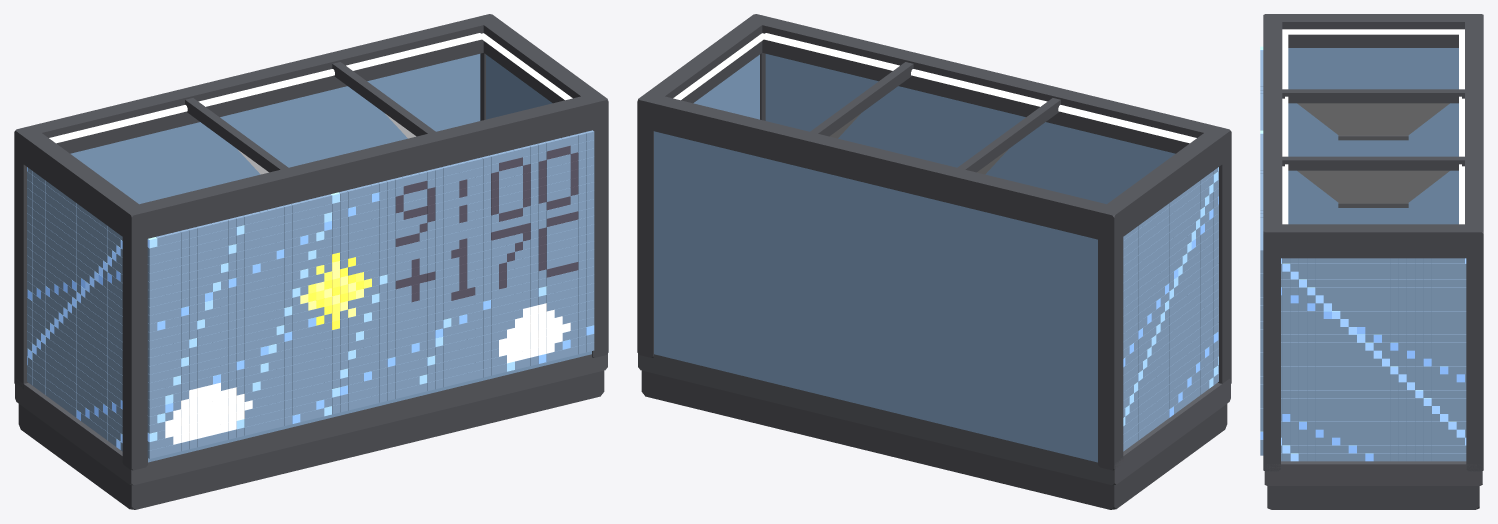
File: smart.glb
3 views of the same model, side by side, from view 1: azimuth 30°, elevation 25°; view 2: azimuth 150°, elevation 25°; view 3: azimuth 270°, elevation 25° (orthographic). The views are drawn at different scales.
Parts seen in each view (by area): view 1: front_true_pixel_blue0, back_solid_backing, left_true_pixel_blue0, rim_front, base_lower, rim_back, base_upper, front_true_pixel_dark, corner_post_2, rim_left, rim_right, corner_post_4 (+20 smaller); view 2: back_solid_backing, front_solid_backing, left_true_pixel_blue0, rim_back, base_lower, rim_front, base_upper, corner_post_1, rim_left, corner_post_3, rim_right, corner_post_2 (+10 smaller); view 3: right_true_pixel_blue0, left_solid_backing, rim_right, rim_left, base_upper, base_lower, rim_front, rim_back, corner_post_4, corner_post_3, funnel_2_right, funnel_1_right (+11 smaller).
Part boxes in pixels (x1,y1,x2,y2): front_true_pixel_blue0: [147, 130, 594, 458]; back_solid_backing: [70, 54, 480, 204]; left_true_pixel_blue0: [27, 167, 122, 451]; rim_front: [122, 92, 608, 241]; base_lower: [18, 370, 604, 509]; rim_back: [15, 14, 499, 163]; base_upper: [15, 354, 607, 485]; front_true_pixel_dark: [395, 145, 578, 302]; corner_post_2: [122, 207, 147, 470]; rim_left: [14, 127, 149, 242]; rim_right: [475, 14, 608, 130]; corner_post_4: [592, 99, 608, 357]; back_solid_backing: [654, 131, 1097, 462]; front_solid_backing: [765, 54, 1175, 204]; left_true_pixel_blue0: [1123, 167, 1218, 451]; rim_back: [637, 92, 1124, 242]; base_lower: [641, 370, 1227, 509]; rim_front: [748, 14, 1231, 163]; base_upper: [638, 354, 1230, 485]; corner_post_1: [1098, 206, 1123, 470]; rim_left: [1096, 126, 1231, 242]; corner_post_3: [637, 101, 653, 357]; rim_right: [639, 14, 770, 126]; corner_post_2: [1209, 131, 1231, 383]; right_true_pixel_blue0: [1281, 258, 1466, 461]; left_solid_backing: [1288, 48, 1458, 224]; rim_right: [1263, 224, 1483, 258]; rim_left: [1263, 14, 1483, 47]; base_upper: [1264, 461, 1482, 485]; base_lower: [1267, 486, 1479, 509]; rim_front: [1263, 14, 1282, 258]; rim_back: [1465, 14, 1483, 258]; corner_post_4: [1263, 227, 1280, 471]; corner_post_3: [1466, 228, 1483, 471]; funnel_2_right: [1297, 170, 1449, 203]; funnel_1_right: [1297, 103, 1449, 135].
Size of the model in its own units: 2.25 by 1.34 by 0.974.
